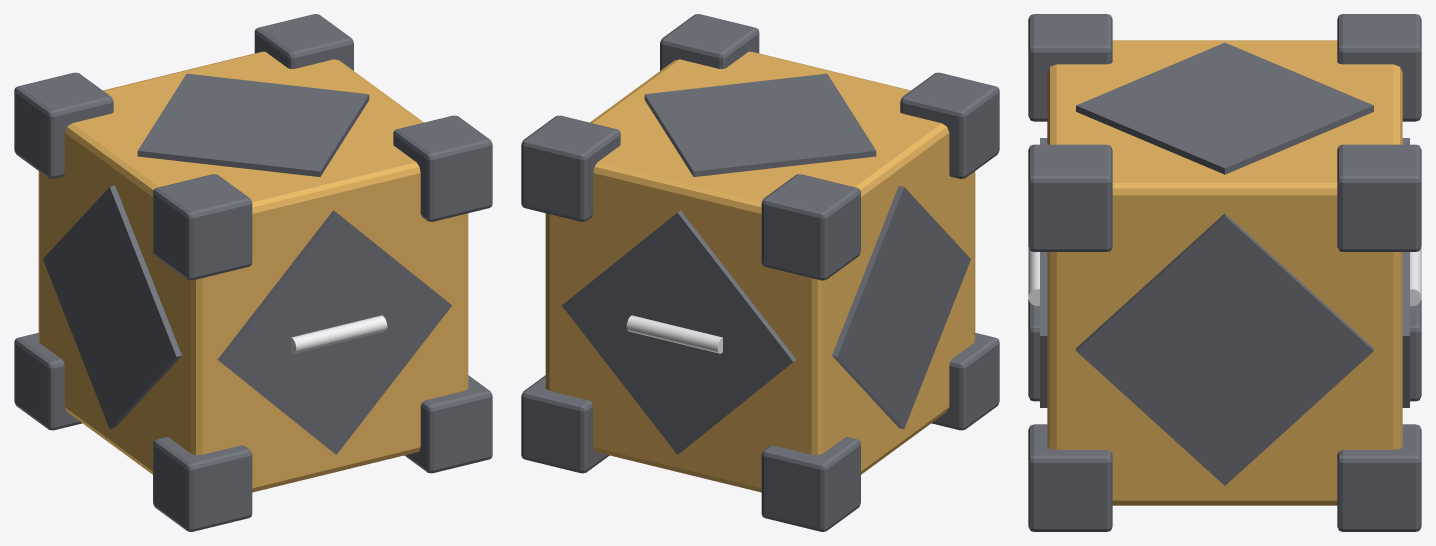
File: cargo_crate.glb
3 views of the same model, side by side, from view 1: azimuth 30°, elevation 25°; view 2: azimuth 150°, elevation 25°; view 3: azimuth 270°, elevation 25° (orthographic). The views are drawn at different scales.
Visible parts, largest first — view 1: cargo_crate; view 2: cargo_crate; view 3: cargo_crate.
Boxes of the visible parts, x1,y1,x2,y2 form: cargo_crate: [14, 14, 492, 531]; cargo_crate: [521, 14, 999, 531]; cargo_crate: [1028, 14, 1421, 531].
Bounding box in the file's own units: 0.84 × 0.84 × 0.84.
